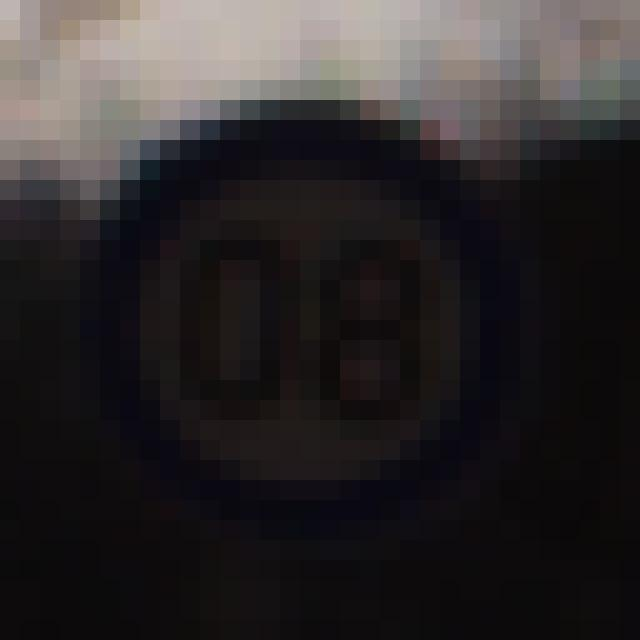SPEED-LIMIT-80: (92, 133, 506, 508)
